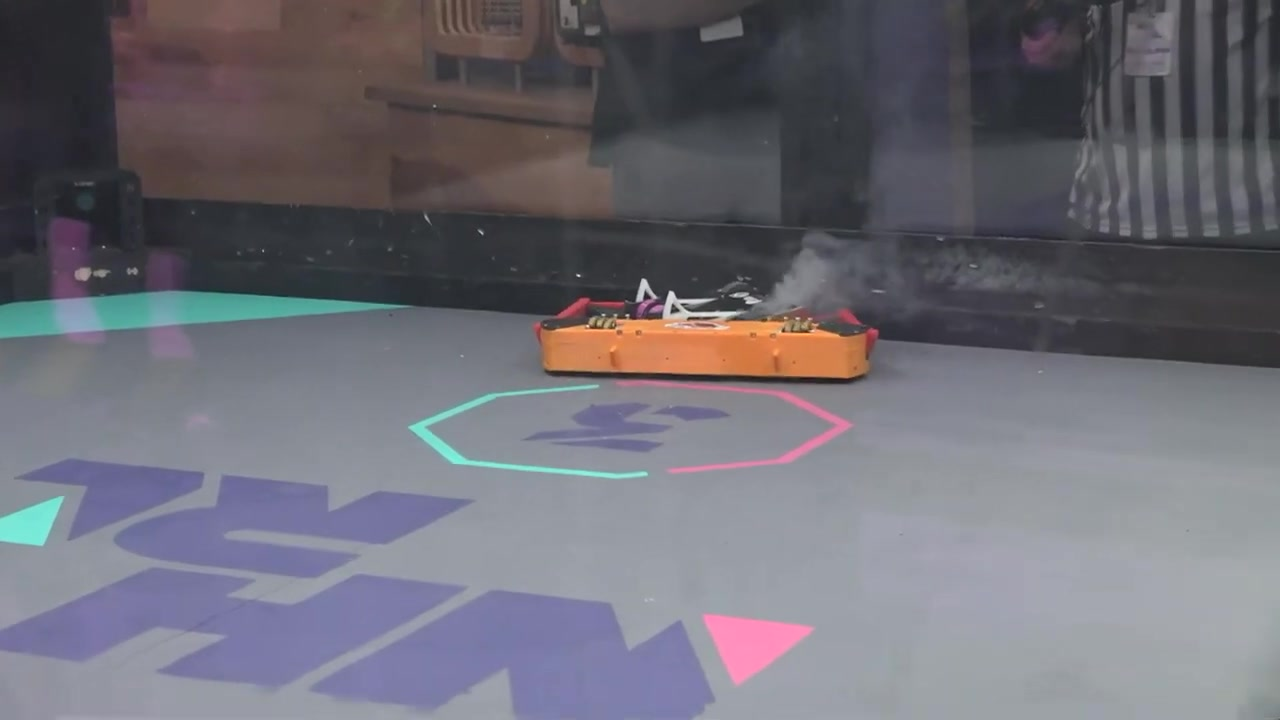combatbot: (529, 268, 877, 384)
